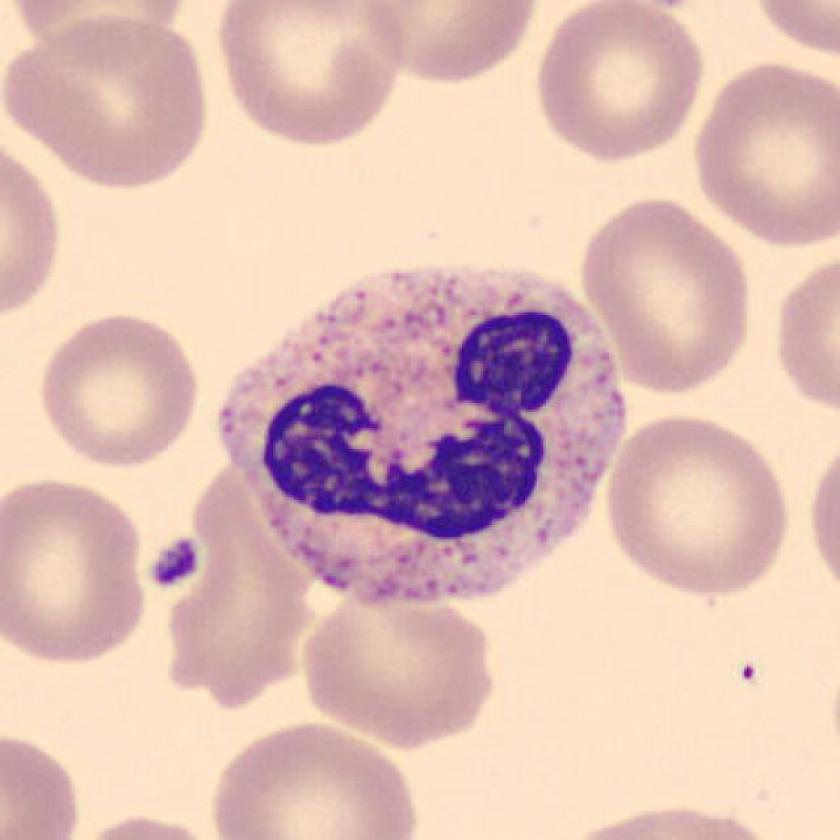neutrophil: (220, 265, 623, 598)
